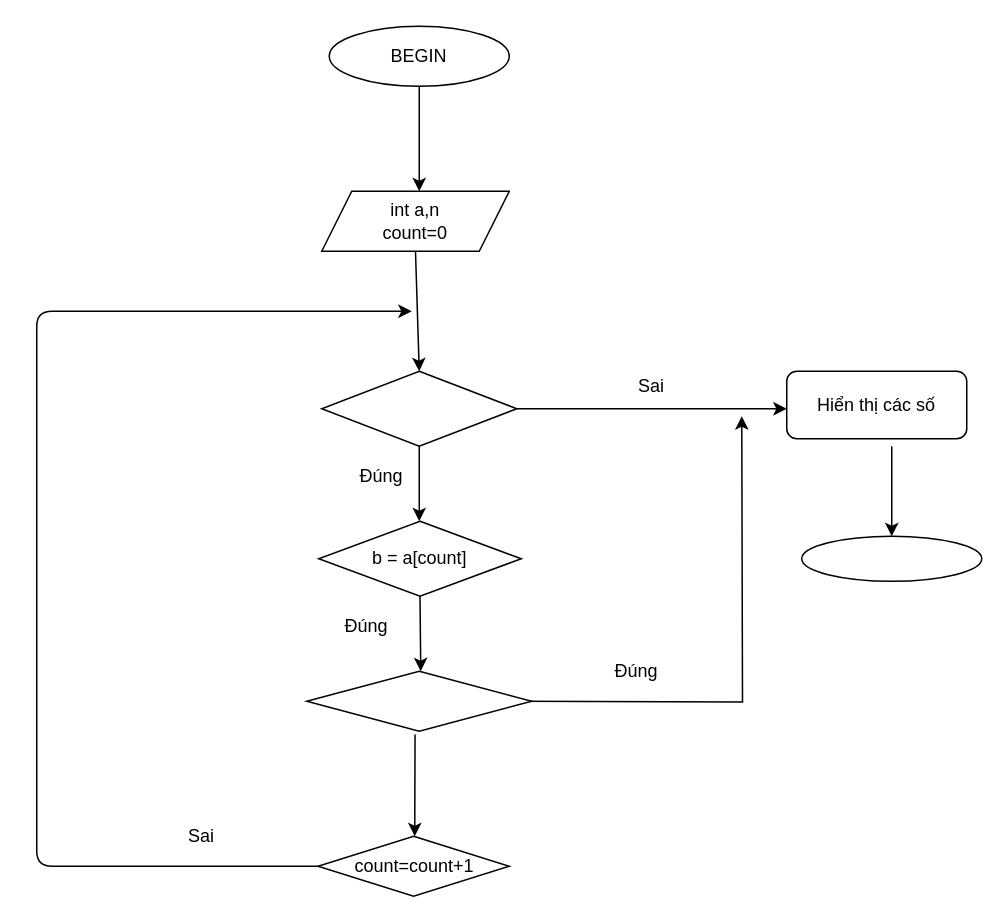
This 1008x923 diagram has some shape labels left out. The shapes that lost their labels are listed below. From the top down, each one's centre as x and y in pixels, then its label:
(x=418, y=408): count < n
(x=891, y=558): END
(x=418, y=700): b%1==0 b%b==0
